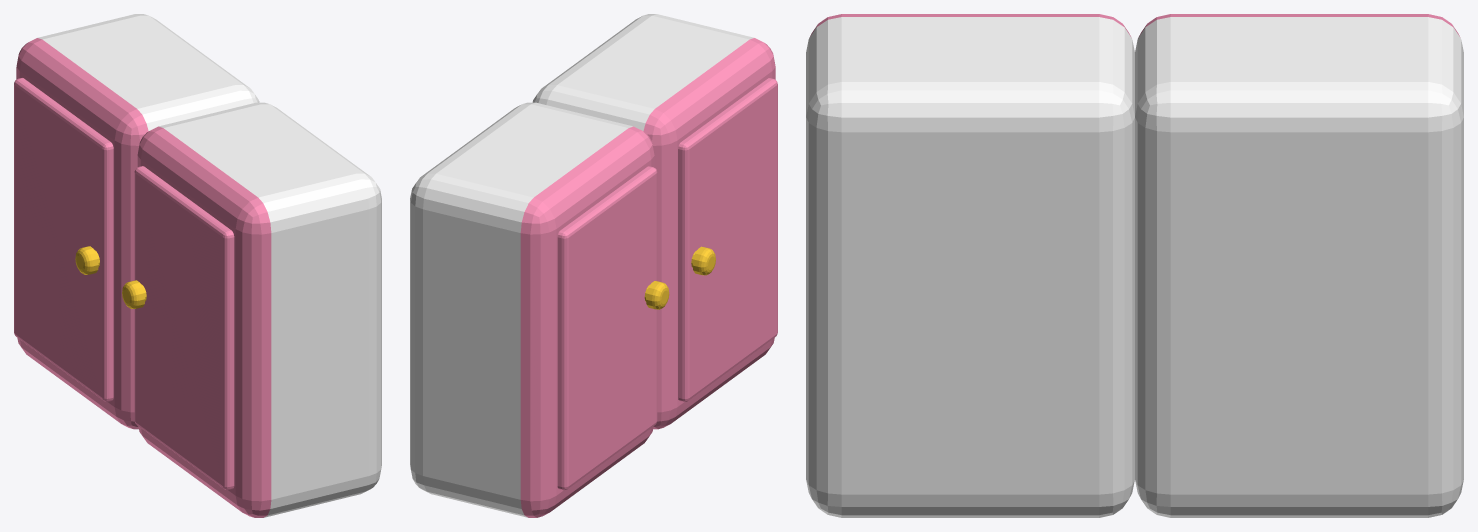
Rendered from Kitchen_3 Wardrobe.fbx.
The picture shows the model from 3 angles, left to right: view 1: azimuth 30°, elevation 25°; view 2: azimuth 150°, elevation 25°; view 3: azimuth 270°, elevation 25°; orthographic projection. The views are drawn at different scales.
Visible parts, largest first — view 1: Kitchen_3 Wardrobe, Kitchen_3 Wardrobe Door_1, Kitchen_3 Wardrobe Door_2; view 2: Kitchen_3 Wardrobe, Kitchen_3 Wardrobe Door_2, Kitchen_3 Wardrobe Door_1; view 3: Kitchen_3 Wardrobe.
Boxes of the visible parts, bbox=[...] form: Kitchen_3 Wardrobe: bbox=[16, 14, 381, 517]; Kitchen_3 Wardrobe Door_1: bbox=[122, 166, 234, 489]; Kitchen_3 Wardrobe Door_2: bbox=[14, 78, 113, 401]; Kitchen_3 Wardrobe: bbox=[410, 14, 775, 517]; Kitchen_3 Wardrobe Door_2: bbox=[557, 166, 669, 490]; Kitchen_3 Wardrobe Door_1: bbox=[678, 78, 777, 401]; Kitchen_3 Wardrobe: bbox=[806, 14, 1463, 517].
Bounding box in the file's own units: 0.4541 × 0.8269 × 1.14.
